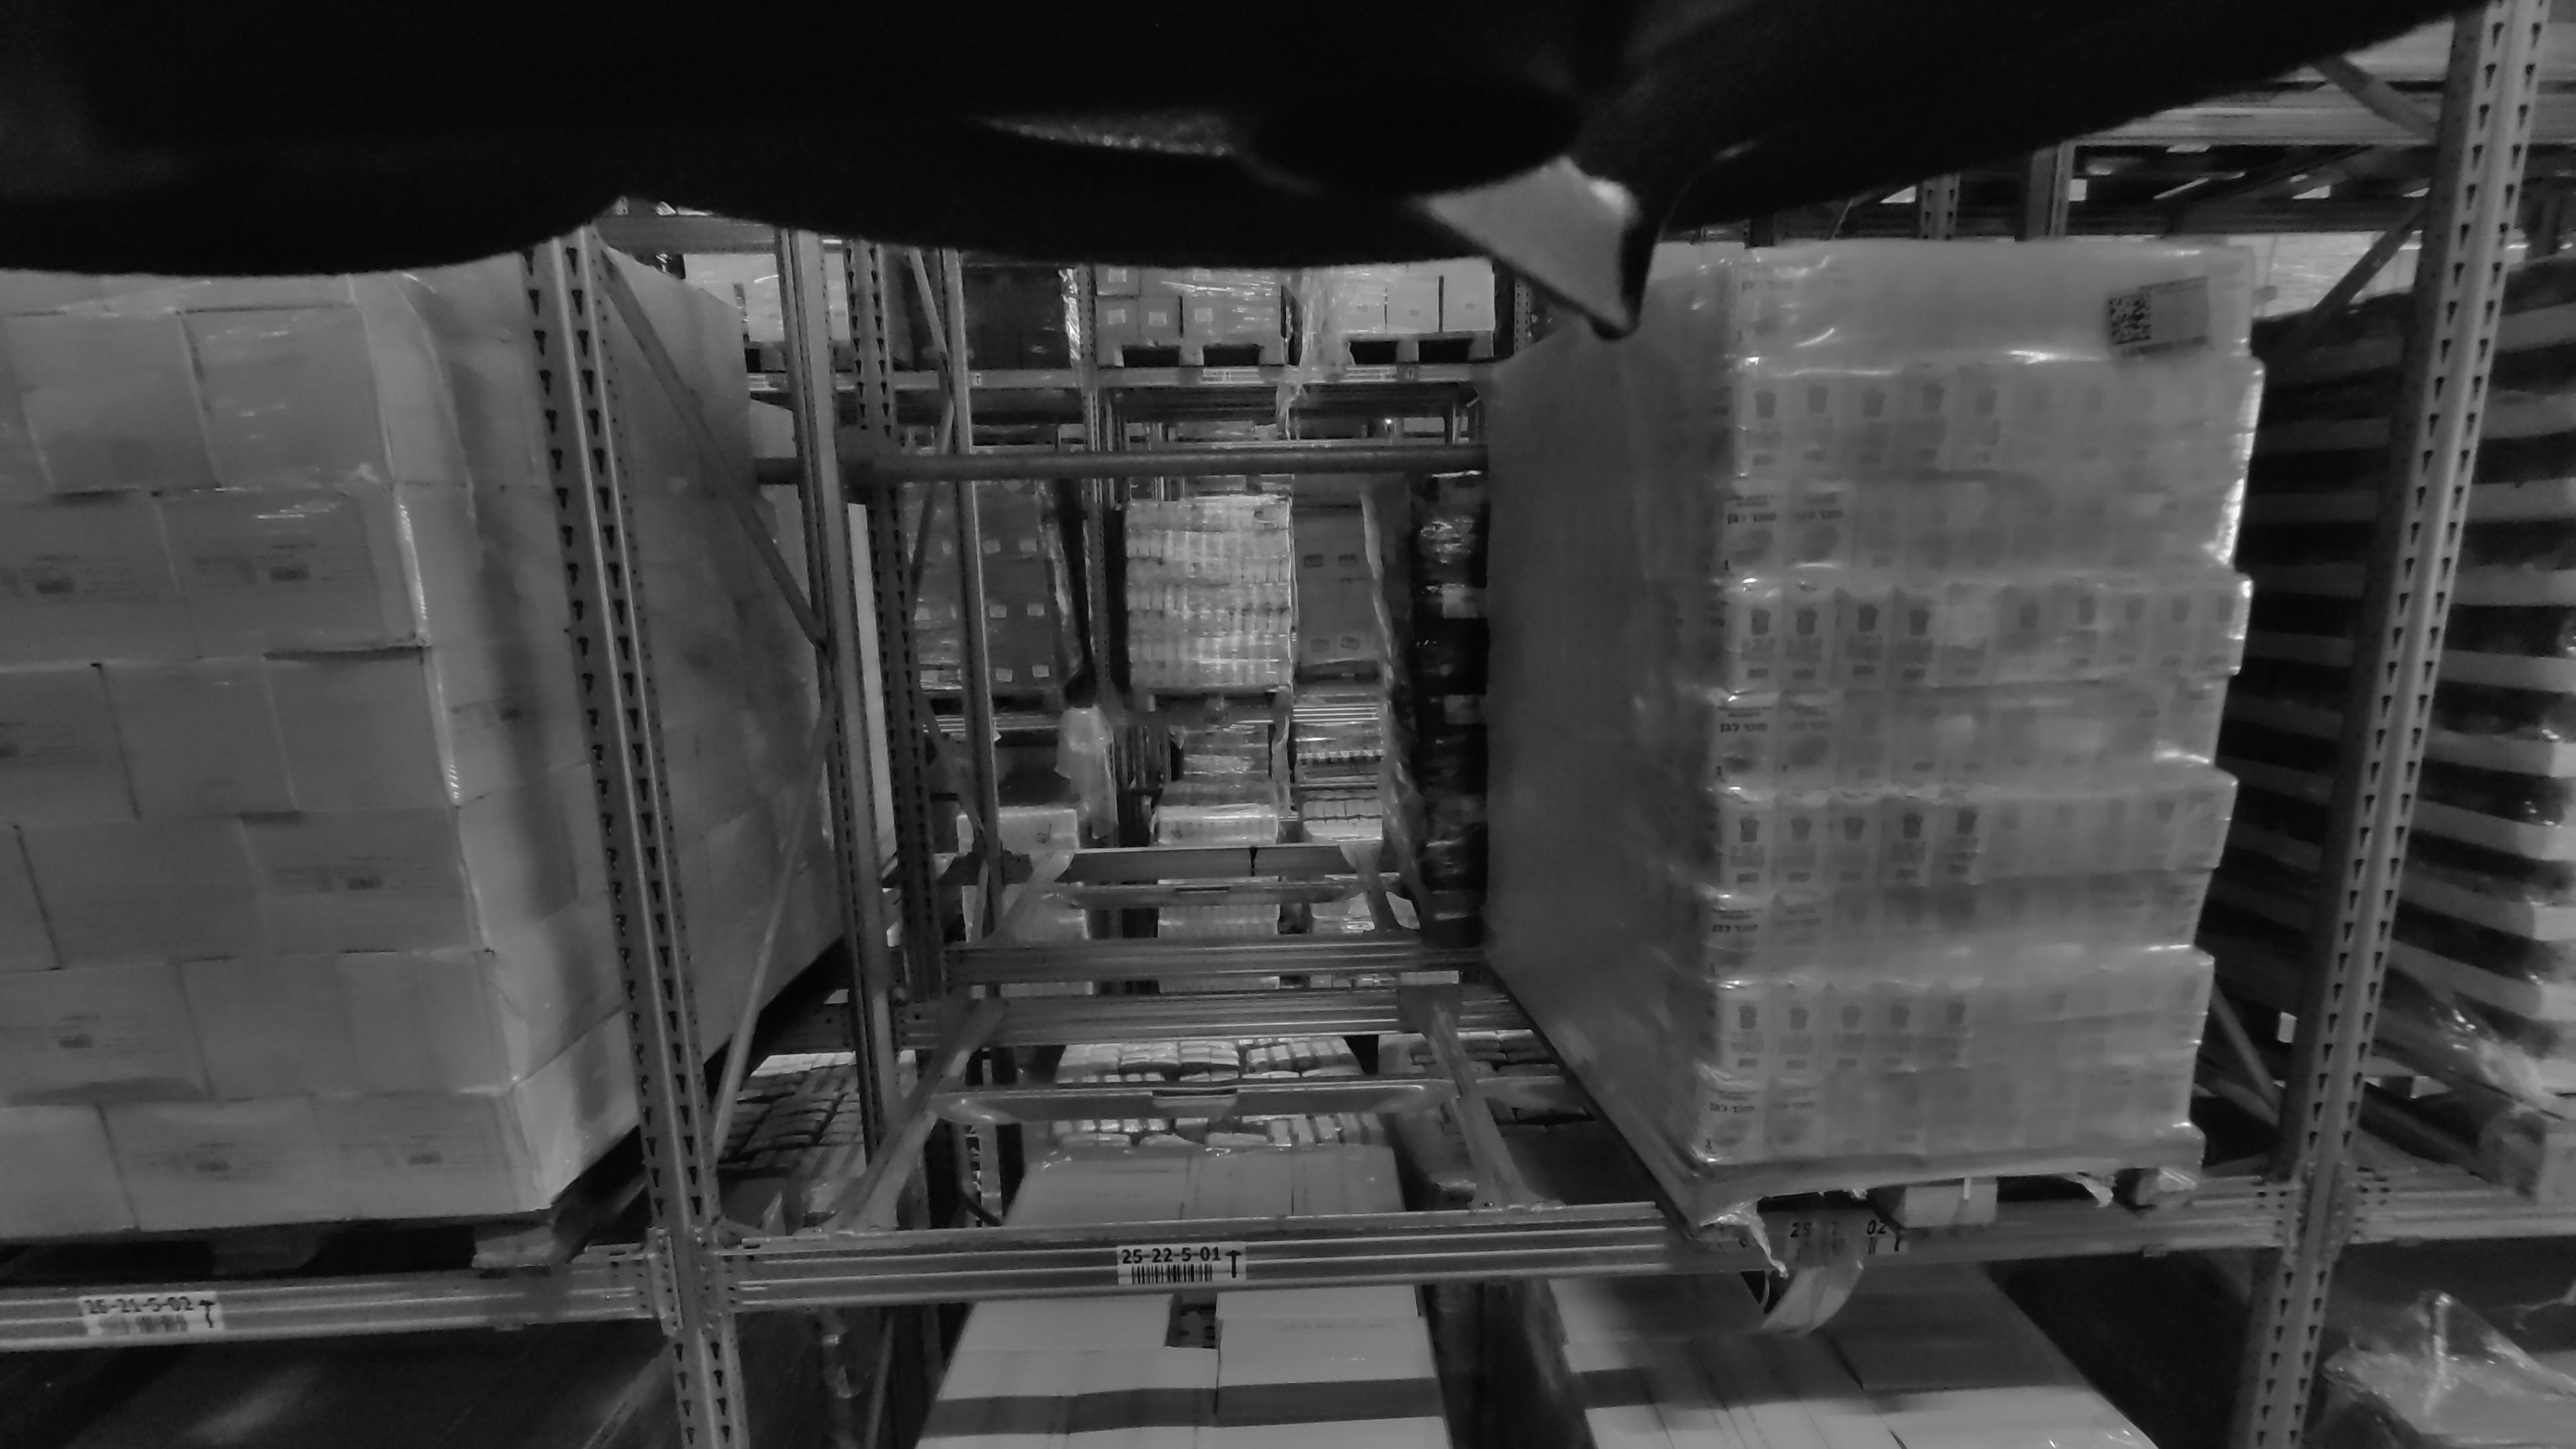empty-shelf: (846, 235, 1506, 1221), (971, 221, 1378, 948)
